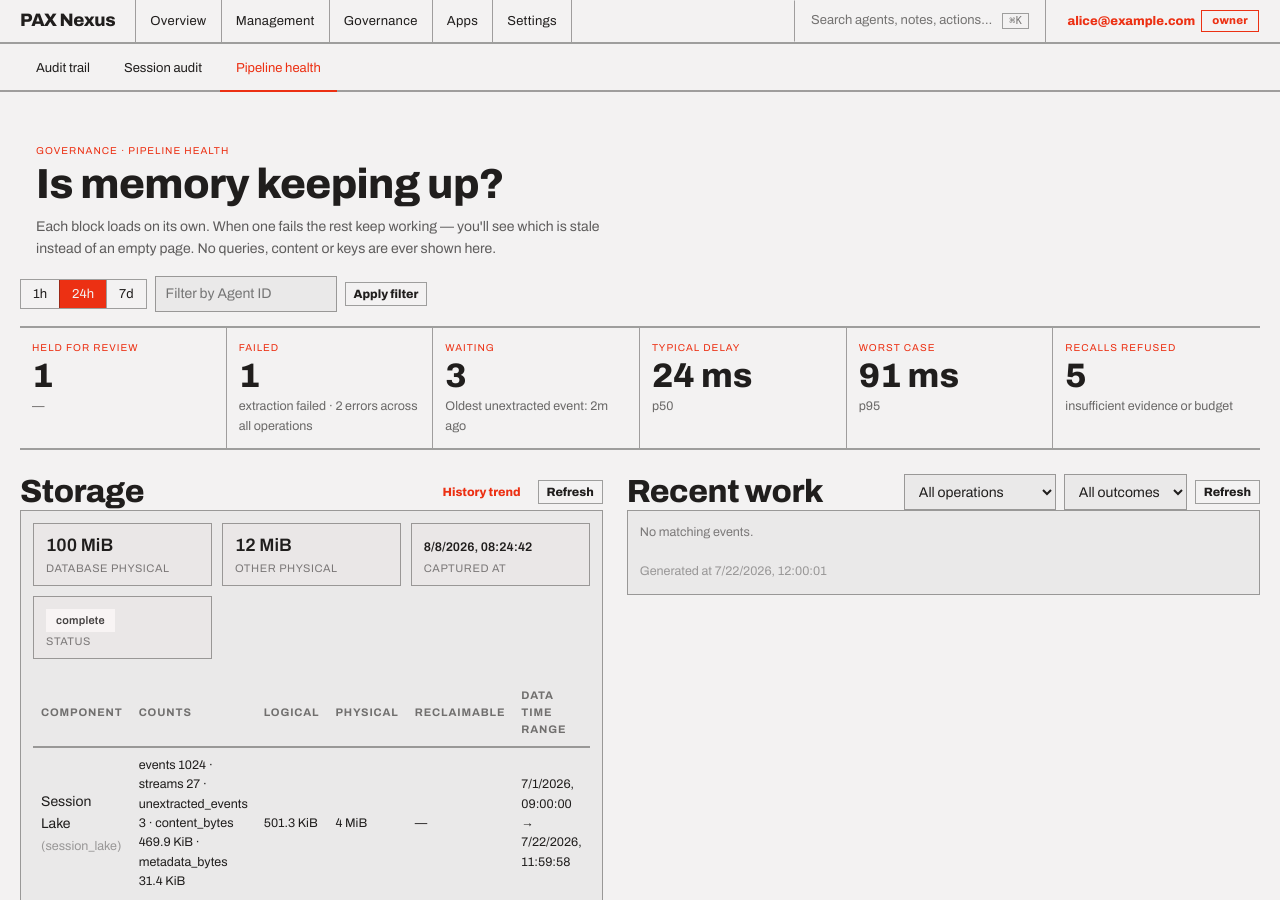
Test: section 12 item 14: storage complete, partial, stale, 503 and empty history are distinct › history rows render as a trend sorted by capture time
This screenshot has width=1280, height=900.
Expected: the heading "Is memory keeping up?" is shown, [36,161,504,207]
Click the button "History trend". click: (482, 492)
box: [434,480,530,504]
(page scrolled)
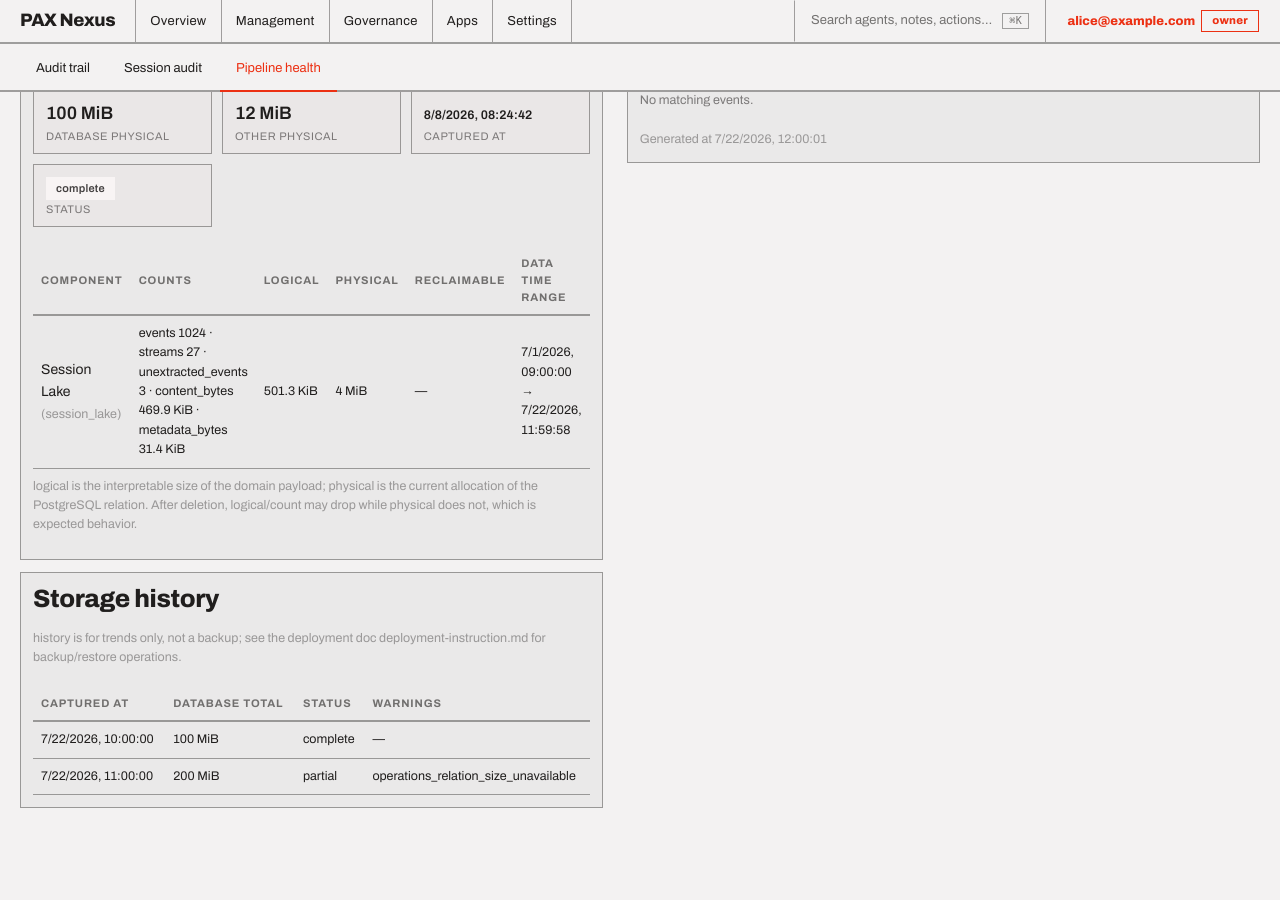
Expected: the row "7/22/2026, 10:00:00 100 MiB complete —" is shown, [33,721,590,758]
Expected: the row that starts with "200 MiB" is shown, [173,769,219,783]
Expected: the row that starts with "200 MiB" shows "operations_relation_size_unavailable", [372,769,576,783]
